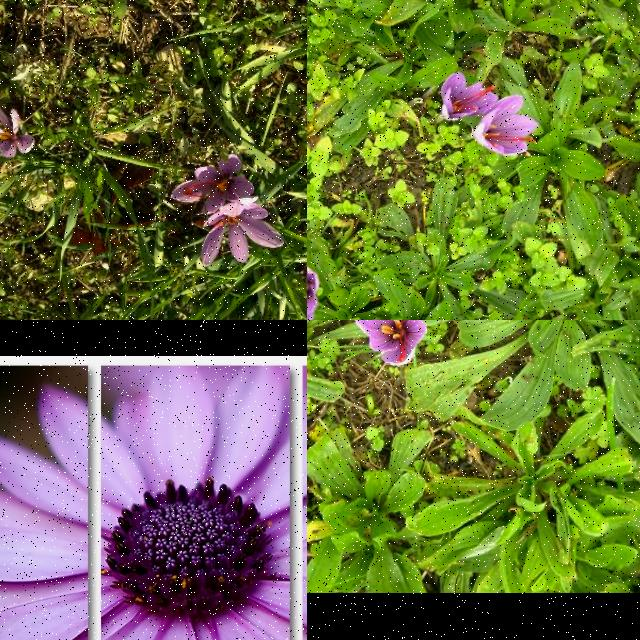flower: (200, 204, 286, 268), (171, 153, 257, 214), (473, 94, 541, 156), (351, 320, 426, 366), (440, 72, 498, 120), (0, 93, 34, 158)
